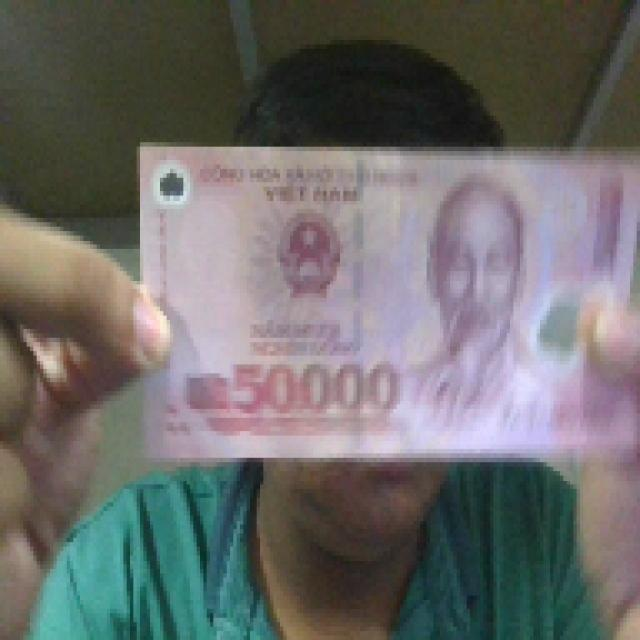50 000 VND: (133, 134, 637, 462)
